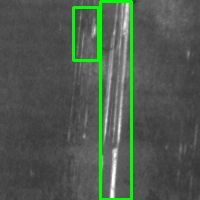scratches: (100, 1, 131, 199), (73, 7, 98, 60)
